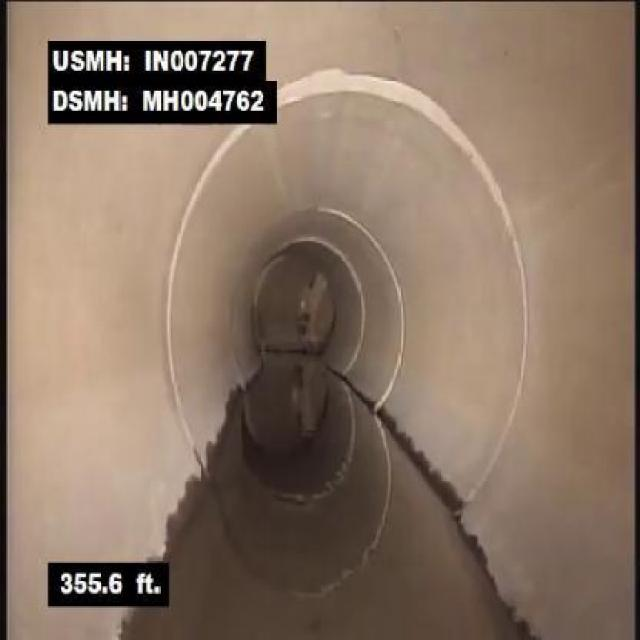Joint offset: (283, 59, 448, 126)
